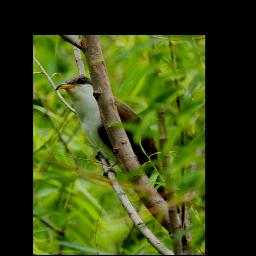Cuckoo: (51, 74, 189, 215)
